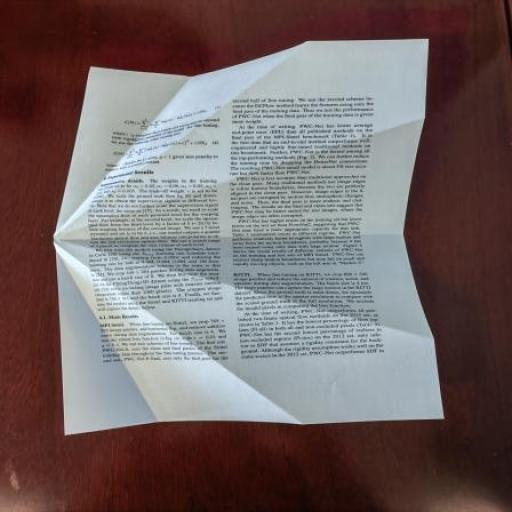paper: (43, 16, 512, 482)
